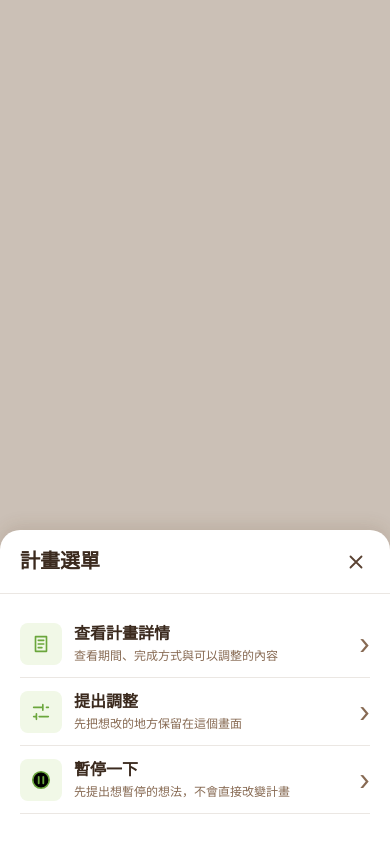
LongTermGoalDetailSheets › routes pause through adjustment and preselects pause without saving
Click the button "暫停一下 先提出想暫停的想法，不會直接改變計畫 ›" at (41, 780), box [20,746,370,814]
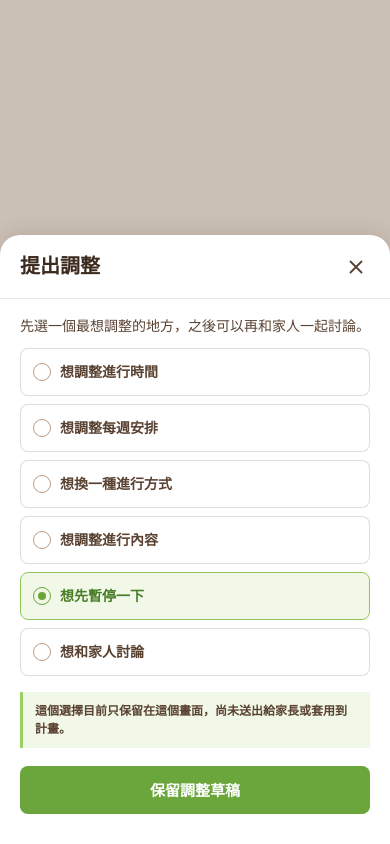
Now the text "提出調整" is shown, box [20,254,100,278]
